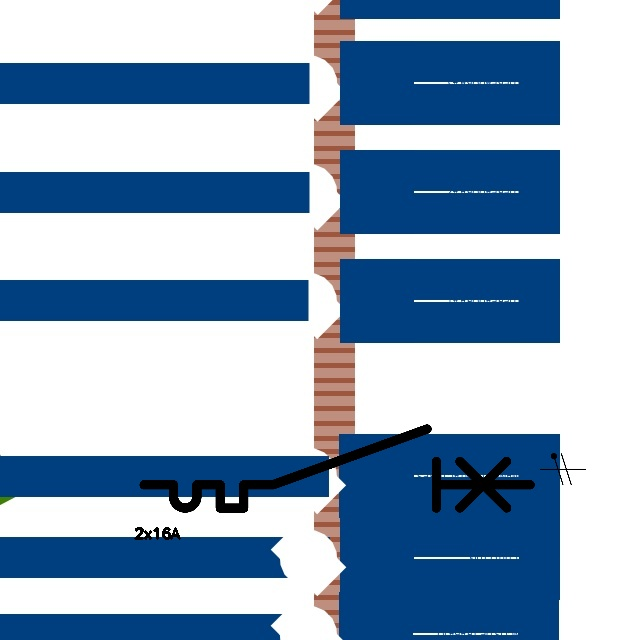interruptor_termomagnetico: (134, 419, 540, 518)
